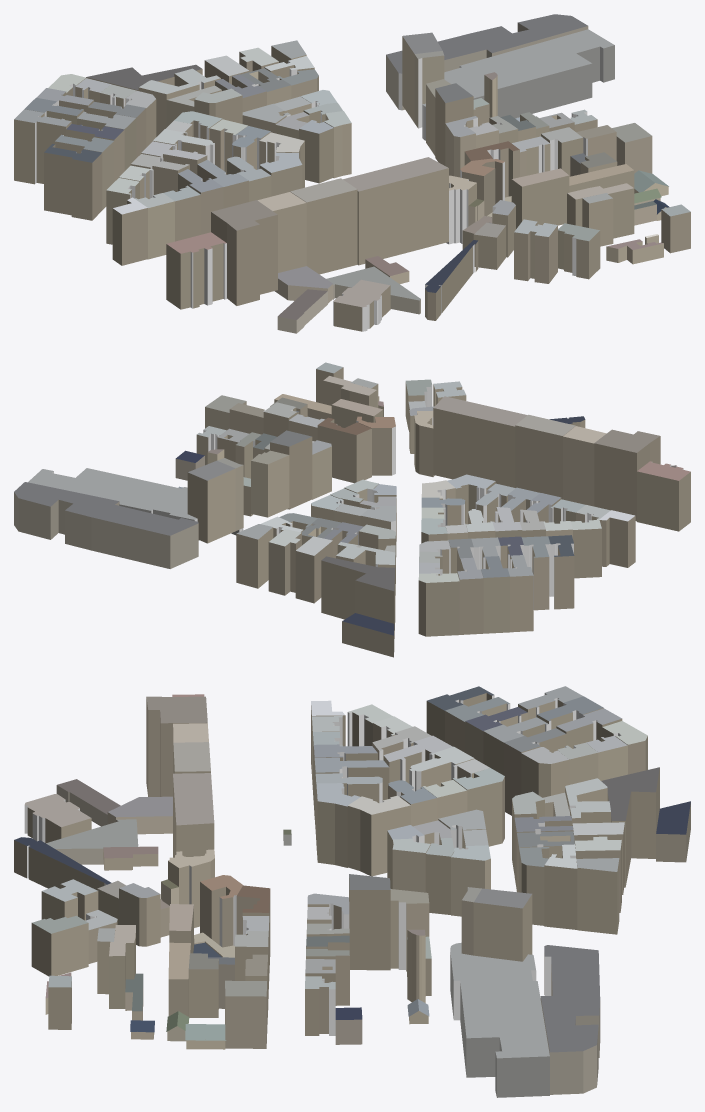
The picture shows the model from 3 angles, top to bottom: view 1: azimuth 30°, elevation 25°; view 2: azimuth 150°, elevation 25°; view 3: azimuth 270°, elevation 25°; orthographic projection. The views are drawn at different scales.
Visible parts, largest first — view 1: tuile; view 2: tuile; view 3: tuile.
Part boxes in pixels (<box>): tuile: <box>14,14,690,333</box>; tuile: <box>14,362,690,657</box>; tuile: <box>14,686,690,1097</box>.
Size of the model in its own units: 307 by 45 by 269.
